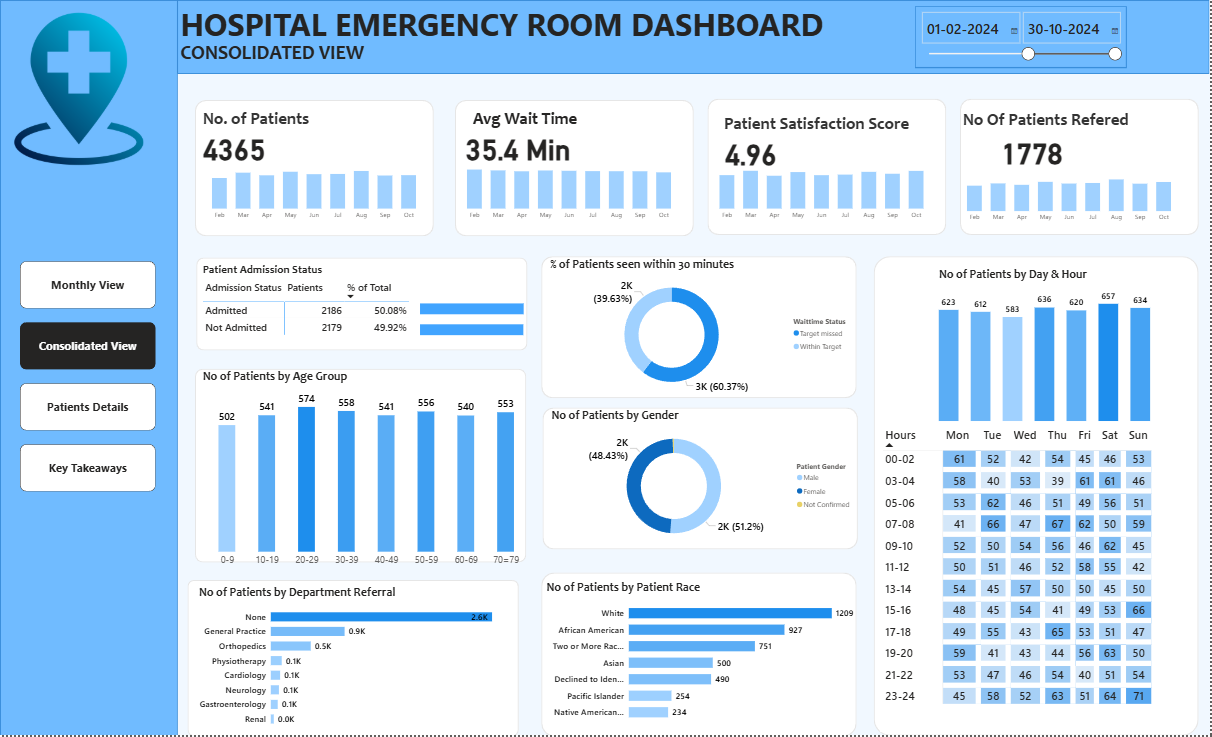

This screenshot's page, from the dashboard's own definition file:
{"tool":"powerbi","page":{"name":"Consolidated View","canvas":[2300,1400],"ordinal":1},"visuals":[{"type":"shape","box":[0,0,337.6,1400.5],"z":0},{"type":"shape","box":[337.8,0,1962.7,140.5],"z":1000},{"type":"textbox","box":[337.8,0,1356.1,111],"z":2000},{"type":"textbox","box":[337.8,71.5,488.2,69],"z":3000},{"type":"shape","box":[370.9,190.2,454.1,259.2],"z":4000},{"type":"card","fields":{"Values":["Hospital ER_Data.No of Patients"]},"box":[337.6,235.4,216.4,85.6],"z":5000},{"type":"slicer","fields":{"Values":["Date Table.Date"]},"box":[1741.5,12.2,402.4,117.1],"z":6000},{"type":"textbox","box":[380.4,199.7,218.8,69],"z":7000},{"type":"columnChart","fields":{"Y":["Hospital ER_Data.No of Patients"],"Category":["Date Table.Month name"]},"box":[380.4,302,435.1,125],"z":8000},{"type":"shape","box":[865.5,190.2,454.1,259.2],"z":9000},{"type":"shape","box":[1345.8,187.8,454.1,259.2],"z":10000},{"type":"shape","box":[1826.1,187.8,454.1,259.2],"z":11000},{"type":"textbox","box":[894,199.7,361.4,69],"z":12000},{"type":"card","fields":{"Values":["Hospital ER_Data.avg wait time"]},"box":[877.4,235.4,216.4,85.6],"z":13000},{"type":"columnChart","fields":{"Y":["Avg(Hospital ER_Data.Patient Waittime)"],"Category":["Date Table.Month name"]},"box":[865.5,302,435.1,125],"z":14000},{"type":"textbox","box":[1372,209.2,370.9,69],"z":15000},{"type":"card","fields":{"Values":["Hospital ER_Data.Satisfaction score"]},"box":[1319.6,244.9,216.4,85.6],"z":16000},{"type":"columnChart","fields":{"Y":["Hospital ER_Data.Satisfaction score"],"Category":["Date Table.Month name"]},"box":[1345.8,302,435.1,125],"z":17000},{"type":"textbox","box":[1826.1,202.1,370.9,69],"z":18000},{"type":"card","fields":{"Values":["Hospital ER_Data.Patients Reffered"]},"box":[1871.3,216.4,183.1,140.3],"z":19000},{"type":"columnChart","fields":{"Y":["Hospital ER_Data.Patients Reffered"],"Category":["Date Table.Month name"]},"box":[1816.6,306.7,435.1,125],"z":20000},{"type":"shape","box":[373.3,489.8,630,177],"z":21000},{"type":"pivotTable","title":"Patient Admission Status ","fields":{"Rows":["Hospital ER_Data.Admission Status"],"Values":["Hospital ER_Data.No of Patients","Divide(Hospital ER_Data.No of Patients, ScopedEval(Hospital ER_Data.No of Patients, []))"]},"box":[380.4,499.3,606.3,156.9],"z":22000},{"type":"barChart","fields":{"Y":["Hospital ER_Data.No of Patients"],"Category":["Hospital ER_Data.Admission Status"]},"box":[794.2,544.5,280.6,121.3],"z":23000},{"type":"shape","box":[370.9,701.4,630.1,368.5],"z":24000},{"type":"clusteredColumnChart","fields":{"Category":["Hospital ER_Data.Age Group"],"Y":["Hospital ER_Data.No of Patients"]},"box":[380.4,701.4,634.9,385.2],"z":25000},{"type":"shape","box":[356.7,1103.3,630.1,297.2],"z":26000},{"type":"clusteredBarChart","fields":{"Category":["Hospital ER_Data.Department Referral"],"Y":["Hospital ER_Data.No of Patients"]},"box":[373.3,1112.8,596.8,280.6],"z":27000},{"type":"shape","box":[1029.6,487.4,600,270],"z":28000},{"type":"donutChart","title":"% of Patients seen within 30 minutes","fields":{"Category":["Hospital ER_Data.Waittime Status"],"Y":["Hospital ER_Data.No of Patients"]},"box":[1041.4,487.4,587.3,271.1],"z":29000},{"type":"shape","box":[1031.6,775.8,600,270],"z":30000},{"type":"donutChart","title":"No of Patients by Gender","fields":{"Y":["Hospital ER_Data.No of Patients"],"Category":["Hospital ER_Data.Patient Gender"]},"box":[1043.4,775.8,587.3,271.1],"z":31000},{"type":"shape","box":[1030,1088,600,312],"z":32000},{"type":"clusteredBarChart","fields":{"Category":["Hospital ER_Data.Patient Race"],"Y":["Hospital ER_Data.No of Patients"]},"box":[1034,1104,596,280],"z":33000},{"type":"shape","box":[1662,488,618,912],"z":34000},{"type":"pivotTable","fields":{"Rows":["Hospital ER_Data.Waittime Interval"],"Columns":["Date Table.Day Name"],"Values":["Hospital ER_Data.No of Patients"]},"box":[1674,806,544,586],"z":35000},{"type":"columnChart","title":"No of Patients by Day & Hour","fields":{"Category":["Date Table.Day Name"],"Y":["Hospital ER_Data.No of Patients"]},"box":[1782,506,414,300],"z":36000},{"type":"image","box":[0,19.5,300,300],"z":37000},{"type":"pageNavigator","box":[39,497.6,258.5,439],"z":38000}]}

Visuals, with their boxes in screenshot pixels (x1, y1, x2, y2), scaled from the page's 2300x1400 canvas onto the 1212x737 screenshot:
shape: {"left": 0, "top": 0, "right": 178, "bottom": 736}
shape: {"left": 178, "top": 0, "right": 1211, "bottom": 74}
textbox: {"left": 178, "top": 0, "right": 893, "bottom": 58}
textbox: {"left": 178, "top": 38, "right": 435, "bottom": 74}
shape: {"left": 195, "top": 100, "right": 435, "bottom": 237}
card - Hospital ER_Data.No of Patients: {"left": 178, "top": 124, "right": 292, "bottom": 169}
slicer - Date Table.Date: {"left": 918, "top": 6, "right": 1130, "bottom": 68}
textbox: {"left": 200, "top": 105, "right": 316, "bottom": 141}
columnChart - Hospital ER_Data.No of Patients x Date Table.Month name: {"left": 200, "top": 159, "right": 430, "bottom": 225}
shape: {"left": 456, "top": 100, "right": 695, "bottom": 237}
shape: {"left": 709, "top": 99, "right": 948, "bottom": 235}
shape: {"left": 962, "top": 99, "right": 1202, "bottom": 235}
textbox: {"left": 471, "top": 105, "right": 662, "bottom": 141}
card - Hospital ER_Data.avg wait time: {"left": 462, "top": 124, "right": 576, "bottom": 169}
columnChart - Avg(Hospital ER_Data.Patient Waittime) x Date Table.Month name: {"left": 456, "top": 159, "right": 685, "bottom": 225}
textbox: {"left": 723, "top": 110, "right": 918, "bottom": 146}
card - Hospital ER_Data.Satisfaction score: {"left": 695, "top": 129, "right": 809, "bottom": 174}
columnChart - Hospital ER_Data.Satisfaction score x Date Table.Month name: {"left": 709, "top": 159, "right": 938, "bottom": 225}
textbox: {"left": 962, "top": 106, "right": 1158, "bottom": 143}
card - Hospital ER_Data.Patients Reffered: {"left": 986, "top": 114, "right": 1083, "bottom": 188}
columnChart - Hospital ER_Data.Patients Reffered x Date Table.Month name: {"left": 957, "top": 161, "right": 1187, "bottom": 227}
shape: {"left": 197, "top": 258, "right": 529, "bottom": 351}
"Patient Admission Status " pivotTable: {"left": 200, "top": 263, "right": 520, "bottom": 345}
barChart - Hospital ER_Data.No of Patients x Hospital ER_Data.Admission Status: {"left": 419, "top": 287, "right": 566, "bottom": 350}
shape: {"left": 195, "top": 369, "right": 527, "bottom": 563}
clusteredColumnChart - Hospital ER_Data.Age Group x Hospital ER_Data.No of Patients: {"left": 200, "top": 369, "right": 535, "bottom": 572}
shape: {"left": 188, "top": 581, "right": 520, "bottom": 736}
clusteredBarChart - Hospital ER_Data.Department Referral x Hospital ER_Data.No of Patients: {"left": 197, "top": 586, "right": 511, "bottom": 734}
shape: {"left": 543, "top": 257, "right": 859, "bottom": 399}
"% of Patients seen within 30 minutes" donutChart: {"left": 549, "top": 257, "right": 858, "bottom": 399}
shape: {"left": 544, "top": 408, "right": 860, "bottom": 551}
"No of Patients by Gender" donutChart: {"left": 550, "top": 408, "right": 859, "bottom": 551}
shape: {"left": 543, "top": 573, "right": 859, "bottom": 736}
clusteredBarChart - Hospital ER_Data.Patient Race x Hospital ER_Data.No of Patients: {"left": 545, "top": 581, "right": 859, "bottom": 729}
shape: {"left": 876, "top": 257, "right": 1201, "bottom": 736}
pivotTable - Hospital ER_Data.Waittime Interval x Date Table.Day Name: {"left": 882, "top": 424, "right": 1169, "bottom": 733}
"No of Patients by Day & Hour" columnChart: {"left": 939, "top": 266, "right": 1157, "bottom": 424}
image: {"left": 0, "top": 10, "right": 158, "bottom": 168}
pageNavigator: {"left": 21, "top": 262, "right": 157, "bottom": 493}
